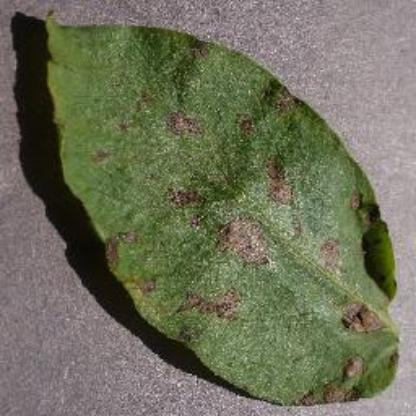Early-Blight: (26, 6, 400, 410)
